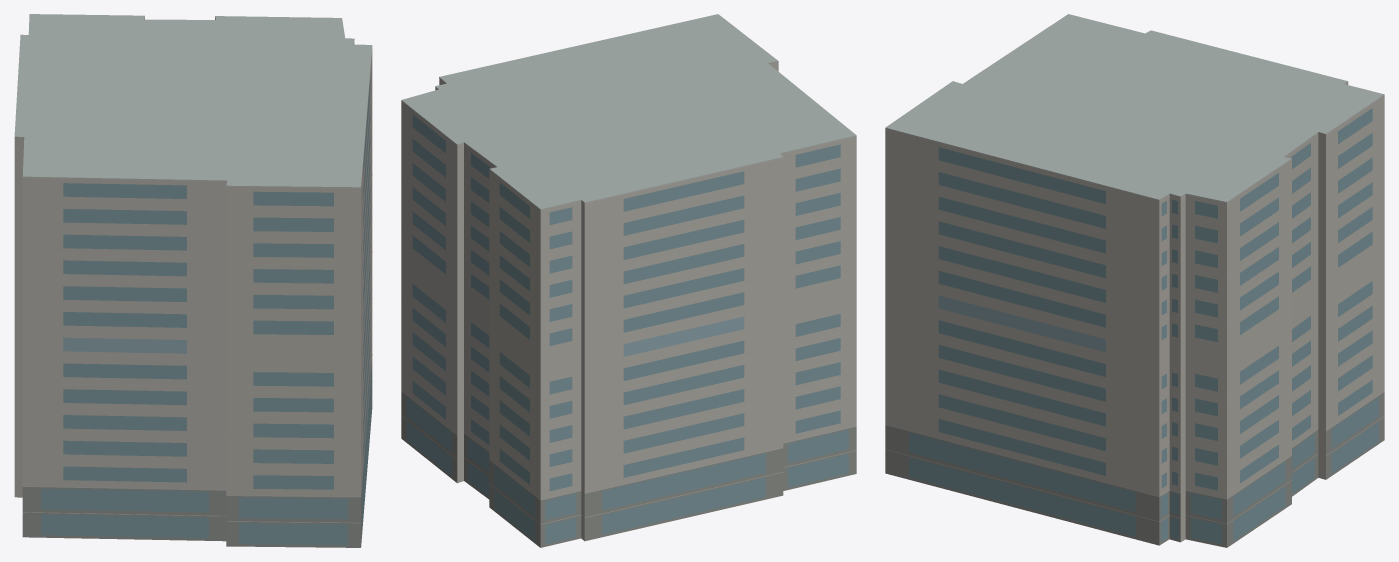
File: survey-upis-32915015.glb
3 views of the same model, side by side, from view 1: azimuth 30°, elevation 25°; view 2: azimuth 150°, elevation 25°; view 3: azimuth 270°, elevation 25° (orthographic). The views are drawn at different scales.
Visible parts, largest first — view 1: survey-upis-32915015.tmp; view 2: survey-upis-32915015.tmp; view 3: survey-upis-32915015.tmp.
Part boxes in pixels (x1,y1,x2,y2): survey-upis-32915015.tmp: (14,14,372,547); survey-upis-32915015.tmp: (401,14,856,547); survey-upis-32915015.tmp: (885,14,1384,547).
Bounding box in the file's own units: 67.15 × 57.55 × 75.33.
